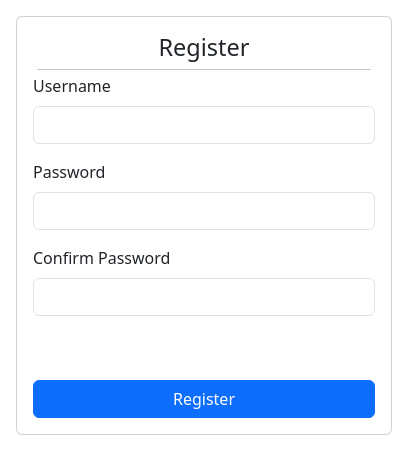
Test: Register Component › handles empty password confirmation
(page scrolled)
Type "testuser" into the field labelled "Username" at coordinates (204, 125), box [33, 106, 375, 144]
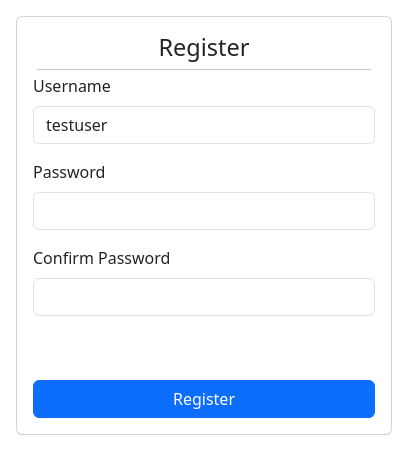
Type "testpassword" into the password field labelled "Password" at coordinates (204, 211), box [33, 192, 375, 230]
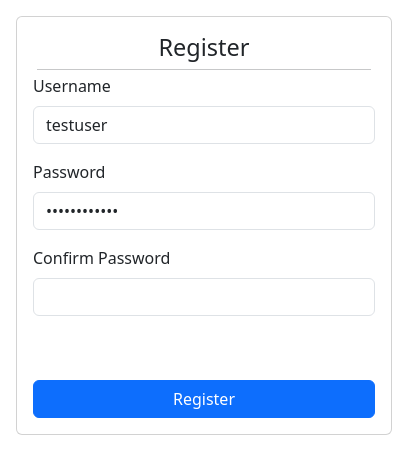
Click the button "Register" at coordinates (204, 399), box [33, 380, 375, 418]
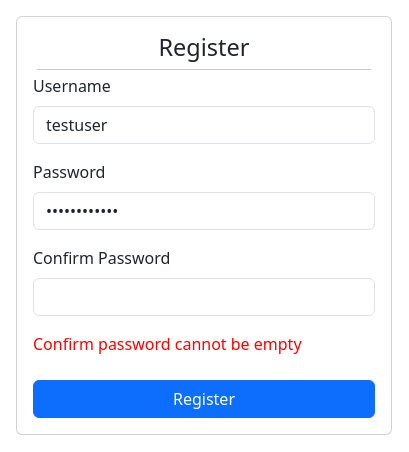
Check: the text "Confirm password cannot be empty" is shown, box [33, 333, 302, 355]
